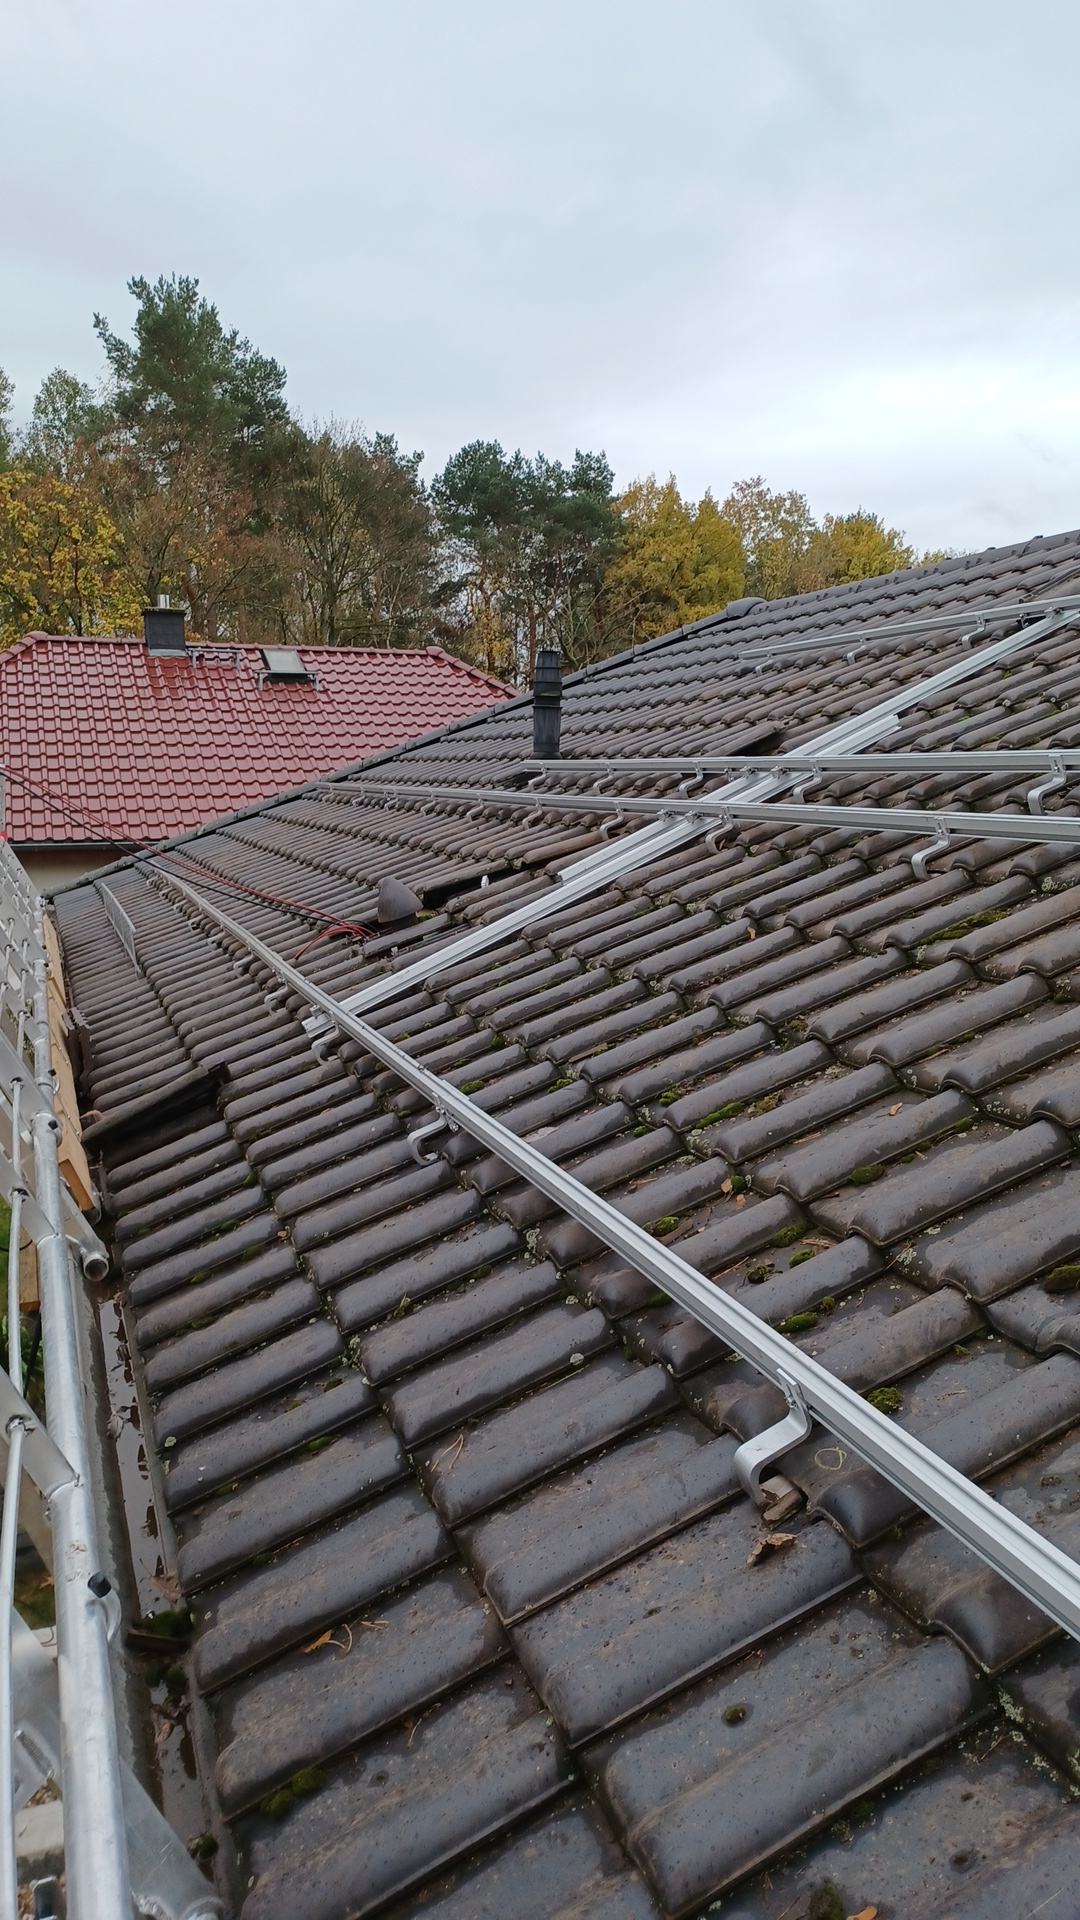hook: (735, 1367, 814, 1506), (407, 1091, 448, 1166), (911, 816, 949, 880), (1027, 756, 1067, 815), (311, 1010, 342, 1065), (793, 760, 823, 804), (705, 806, 733, 855), (264, 971, 289, 1014), (600, 800, 624, 840), (679, 761, 703, 799), (963, 613, 986, 649), (233, 940, 255, 978), (847, 632, 868, 665), (593, 762, 615, 794), (522, 798, 543, 829), (207, 919, 225, 949), (527, 764, 547, 791), (465, 794, 484, 822), (187, 905, 204, 931), (756, 650, 773, 676), (419, 790, 436, 815), (173, 893, 189, 913), (160, 881, 173, 899), (385, 791, 397, 811), (352, 789, 365, 806), (322, 786, 335, 803), (146, 872, 158, 886)
